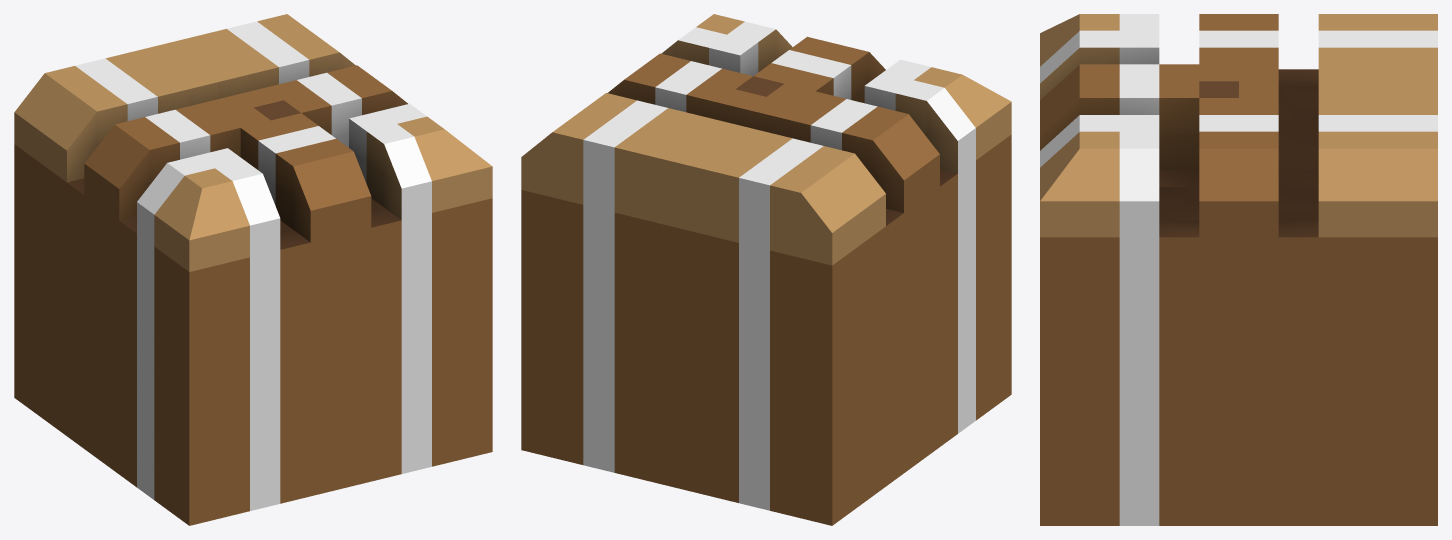
File: wood_tile_voxel_t.fbx
3 renders of one model, left to right at view 1: azimuth 30°, elevation 25°; view 2: azimuth 150°, elevation 25°; view 3: azimuth 270°, elevation 25°, orthographic. The views are drawn at different scales.
Visible parts, largest first — view 1: Block, Plank1, Plank4, Plank3, Plank2; view 2: Block, Plank4, Plank1, Plank3, Plank2; view 3: Block, Plank1, Plank4, Plank2, Plank3.
Boxes of the visible parts, x1,y1,x2,y2 form: Block: [14, 144, 492, 525]; Plank1: [84, 65, 407, 242]; Plank4: [14, 14, 355, 182]; Plank3: [137, 148, 280, 271]; Plank2: [349, 103, 492, 220]; Block: [521, 134, 1011, 525]; Plank4: [521, 93, 885, 265]; Plank1: [607, 36, 939, 212]; Plank3: [864, 59, 1011, 173]; Plank2: [661, 14, 792, 75]; Block: [1040, 69, 1437, 525]; Plank1: [1040, 14, 1278, 237]; Plank4: [1318, 14, 1437, 237]; Plank2: [1040, 115, 1159, 237]; Plank3: [1040, 14, 1159, 99].
Size of the model in its own units: 100 by 100 by 100.
